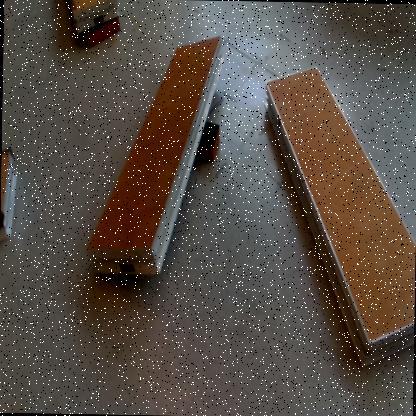Stairs: (263, 66, 416, 371), (87, 38, 224, 276), (67, 1, 120, 37), (1, 149, 18, 246)
